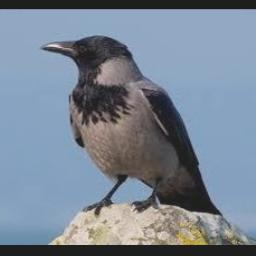Crow: (39, 35, 224, 217)
